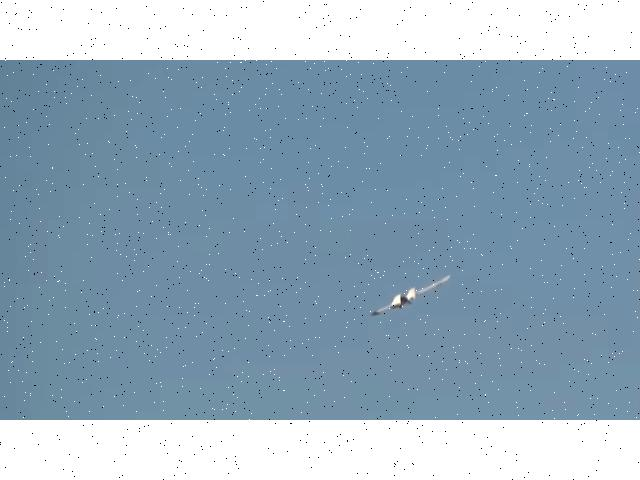Anti-Drone: (373, 276, 449, 316)
